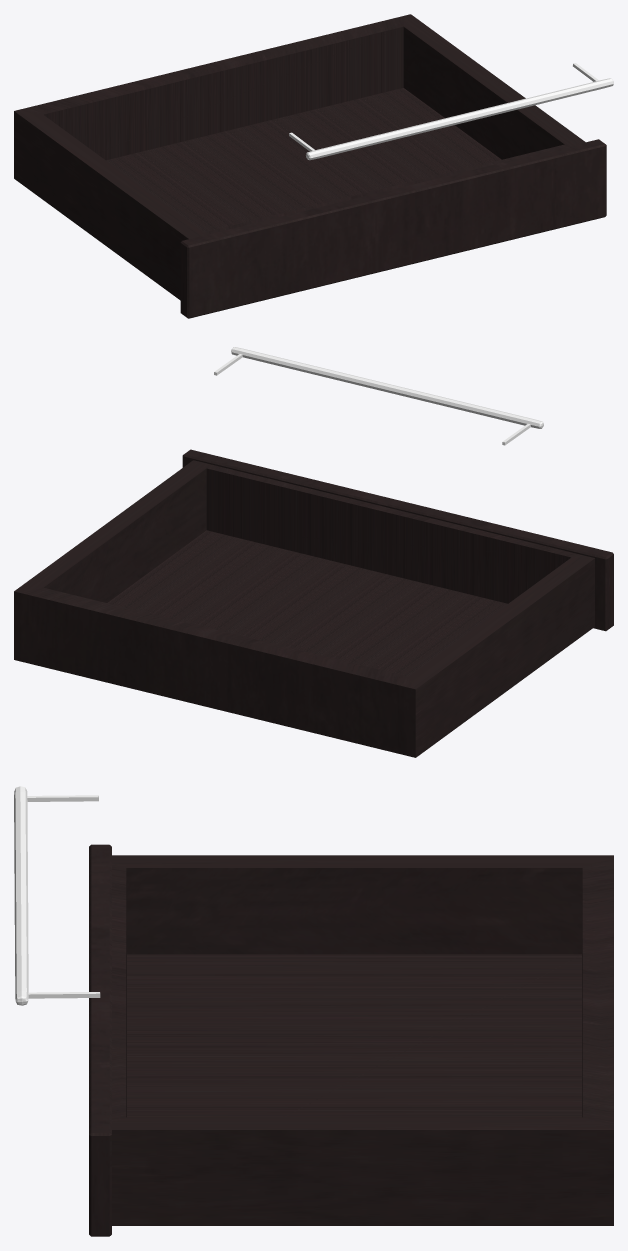
Rendered from Drawer_1e9a9b91.obj.
3 views of the same model, one above another, from view 1: azimuth 30°, elevation 25°; view 2: azimuth 150°, elevation 25°; view 3: azimuth 270°, elevation 25° (orthographic). The views are drawn at different scales.
Visible parts, largest first — view 1: DrawerMesh_01_3322c384, CabineDoorHandle2_(12)_01_48e807aa; view 2: DrawerMesh_01_3322c384, CabineDoorHandle2_(12)_01_48e807aa; view 3: DrawerMesh_01_3322c384, CabineDoorHandle2_(12)_01_48e807aa.
Boxes of the visible parts, x1=… form: DrawerMesh_01_3322c384: x1=14, y1=14, x2=606, y2=318; CabineDoorHandle2_(12)_01_48e807aa: x1=289, y1=63, x2=613, y2=160; DrawerMesh_01_3322c384: x1=14, y1=449, x2=613, y2=757; CabineDoorHandle2_(12)_01_48e807aa: x1=214, y1=347, x2=543, y2=445; DrawerMesh_01_3322c384: x1=89, y1=844, x2=613, y2=1236; CabineDoorHandle2_(12)_01_48e807aa: x1=14, y1=786, x2=100, y2=1005.
Size of the model in its own units: 0.6 by 0.2199 by 0.5241.
